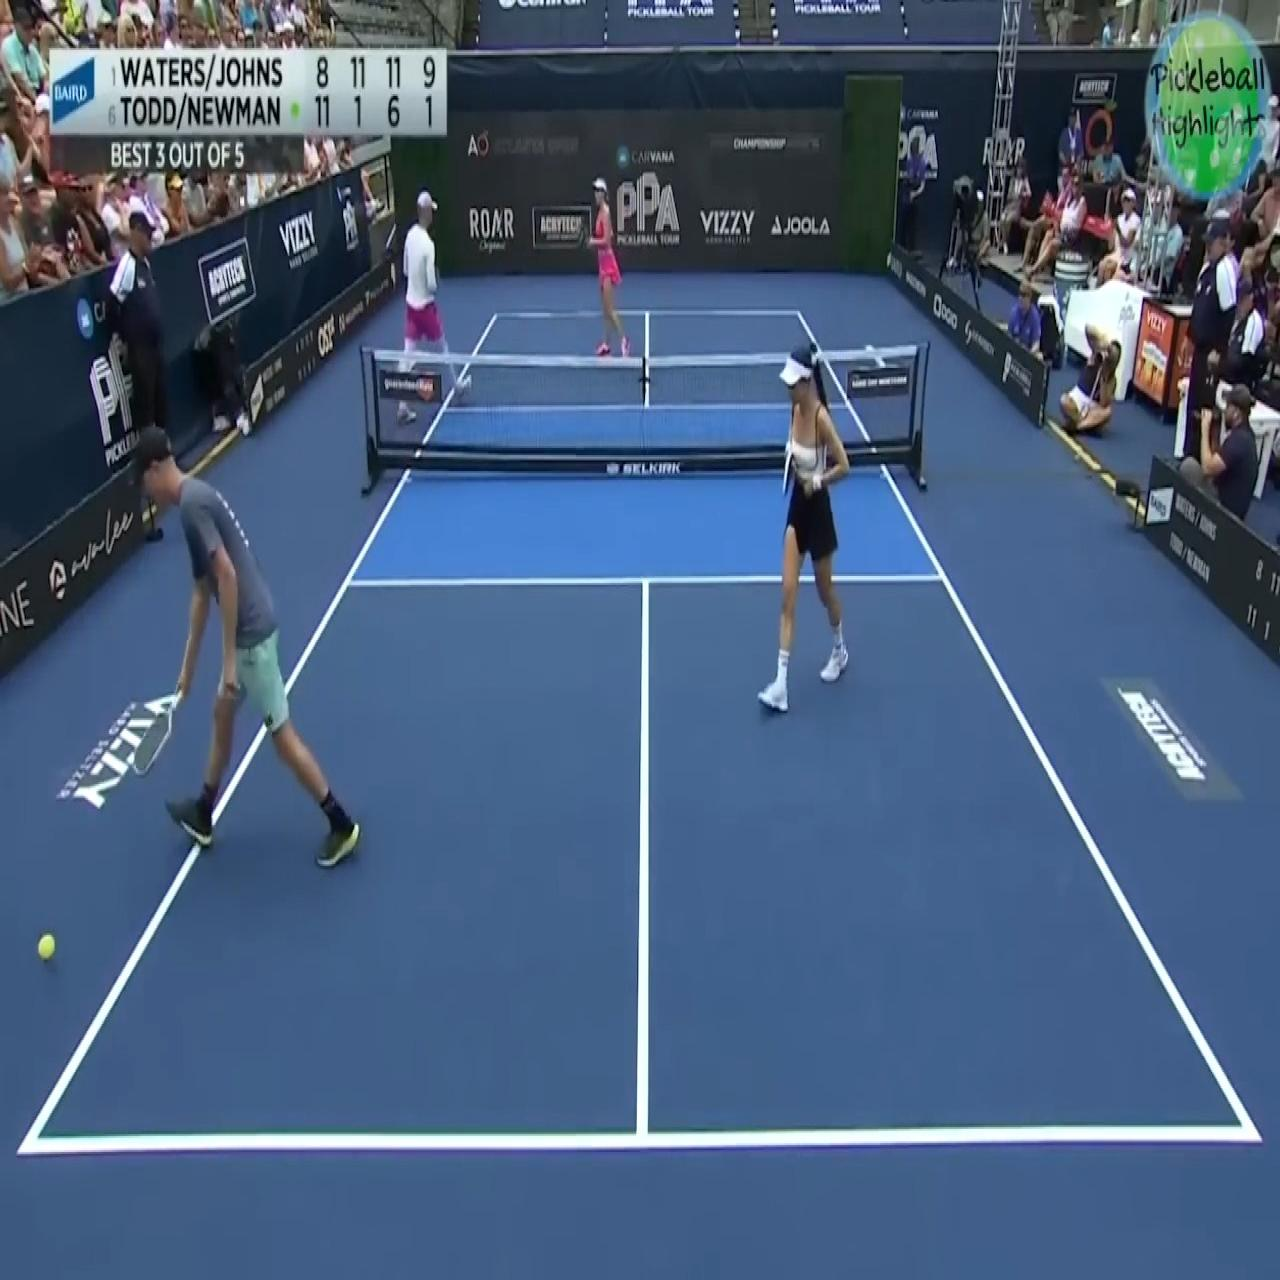Pickleball: (36, 927, 56, 965)
